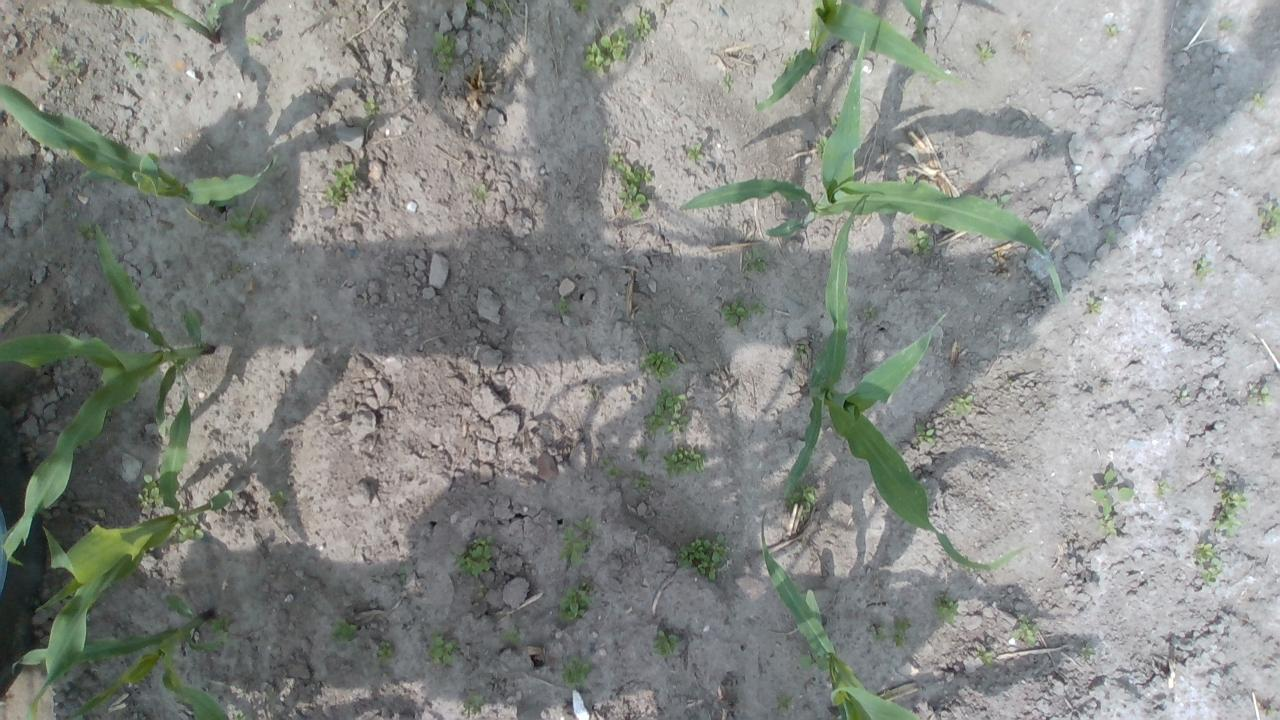Maize: (677, 30, 1068, 311), (784, 194, 1026, 572), (23, 361, 236, 720), (0, 220, 216, 567), (0, 80, 281, 214), (756, 506, 925, 720), (10, 593, 236, 720), (752, 0, 966, 114), (72, 0, 238, 46)
Weeds: (608, 153, 654, 222), (676, 532, 730, 582), (580, 26, 630, 76), (642, 386, 691, 437), (218, 202, 274, 241), (1092, 466, 1134, 517), (448, 535, 494, 580), (1213, 488, 1252, 538), (558, 518, 596, 568), (556, 580, 594, 626), (721, 295, 767, 333), (321, 164, 356, 204), (637, 348, 679, 380), (1192, 542, 1224, 584), (786, 478, 818, 519), (663, 446, 706, 476), (430, 30, 459, 72), (426, 629, 458, 666), (558, 656, 592, 688), (44, 47, 80, 76), (172, 514, 206, 543), (930, 593, 960, 625), (651, 628, 680, 660), (1258, 200, 1280, 242), (136, 474, 163, 507), (1011, 616, 1040, 646), (327, 619, 357, 645), (742, 246, 768, 274), (890, 620, 913, 650), (799, 651, 830, 672), (462, 690, 487, 716), (908, 229, 932, 255), (912, 423, 936, 449), (268, 485, 294, 509), (632, 10, 652, 41), (1246, 384, 1274, 406), (208, 610, 230, 636), (374, 640, 394, 668), (1193, 256, 1213, 282), (950, 395, 974, 416), (500, 627, 523, 648), (124, 50, 148, 70), (74, 221, 98, 239), (496, 0, 516, 21), (471, 182, 490, 204), (684, 142, 704, 162), (1098, 516, 1118, 536), (866, 622, 886, 642), (774, 694, 793, 715), (1082, 295, 1102, 314), (974, 43, 994, 62), (600, 457, 618, 478), (634, 472, 652, 493), (362, 96, 379, 118), (1153, 479, 1172, 498), (978, 646, 994, 668), (554, 295, 571, 315), (1208, 464, 1226, 482), (989, 194, 1011, 208), (568, 0, 590, 14), (1079, 640, 1096, 658), (720, 72, 734, 93), (816, 134, 828, 158), (903, 174, 929, 185), (396, 566, 409, 586), (1172, 388, 1190, 402), (243, 32, 262, 44), (636, 447, 650, 463), (1104, 229, 1118, 244), (792, 344, 805, 360), (475, 584, 488, 598), (1253, 92, 1266, 106), (1219, 18, 1234, 30), (233, 710, 250, 720), (1265, 704, 1277, 718), (864, 306, 876, 319), (1104, 25, 1118, 36), (830, 112, 840, 124), (464, 0, 476, 9), (232, 262, 241, 274), (482, 0, 494, 7)
